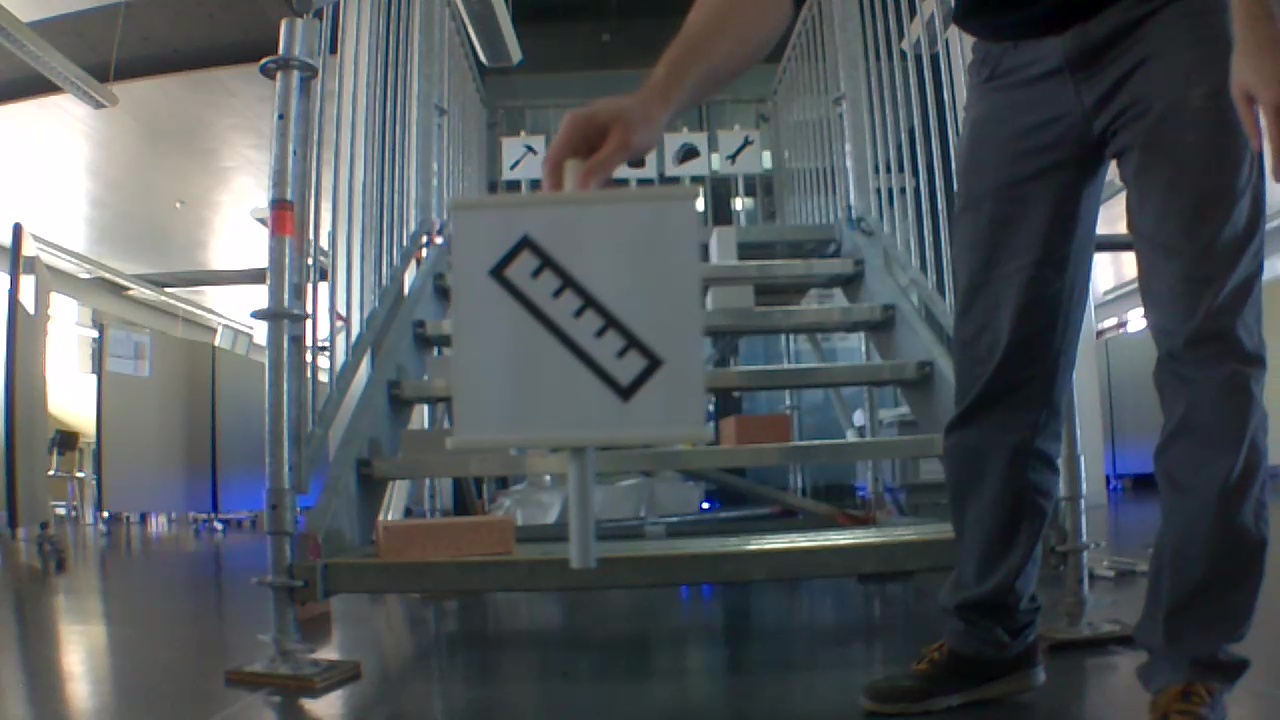brick: (373, 511, 519, 560), (723, 412, 790, 446), (699, 285, 749, 309), (709, 225, 739, 264)
edge: (315, 533, 963, 595), (355, 429, 953, 482)
hammer: (508, 144, 537, 173)
ruler: (488, 231, 670, 412)
taco: (673, 136, 700, 166)
wrench: (725, 133, 758, 165)
